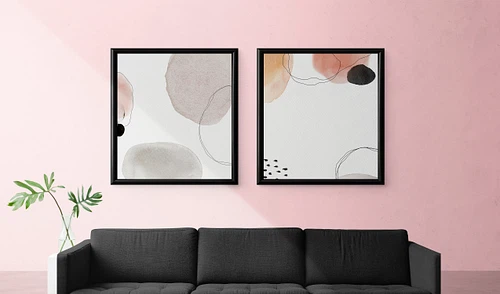large plant: (9, 175, 101, 293)
sofa: (56, 226, 442, 294)
wall art: (108, 45, 239, 186), (254, 46, 385, 186)
